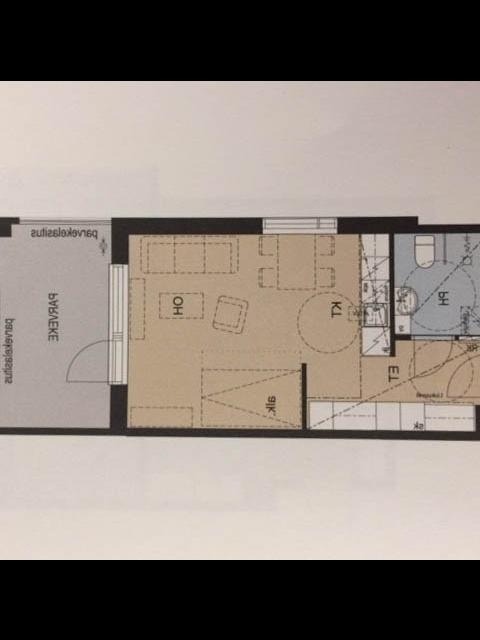bathroom: (392, 230, 480, 335)
door: (64, 338, 126, 388), (409, 332, 458, 382), (445, 352, 480, 400)
perimeter: (112, 216, 480, 435)
window: (105, 255, 137, 341), (256, 211, 346, 239), (12, 212, 118, 230), (0, 259, 4, 433)
